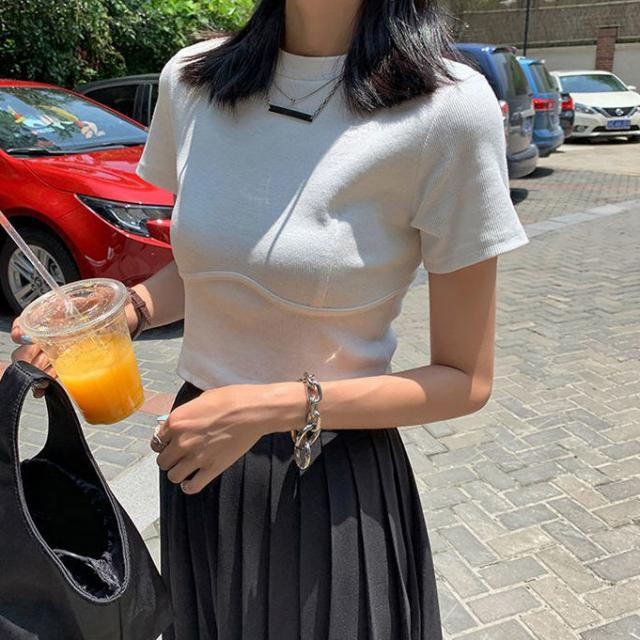Shirt: (132, 32, 530, 411)
